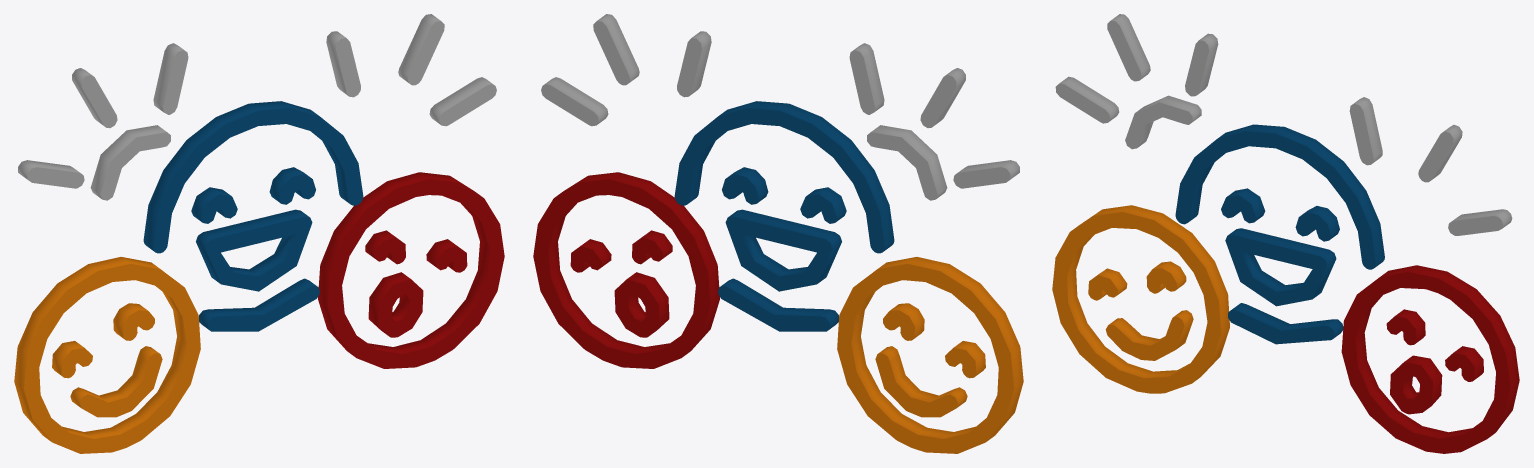
Rendered from crowd.glb.
3 renders of one model, left to right at view 1: azimuth 30°, elevation 25°; view 2: azimuth 150°, elevation 25°; view 3: azimuth 330°, elevation 25°, orthographic. The views are drawn at different scales.
Visible parts, largest first — view 1: crowd; view 2: crowd; view 3: crowd.
Part boxes in pixels (x1=…): crowd: x1=14, y1=14, x2=504, y2=453; crowd: x1=533, y1=14, x2=1023, y2=453; crowd: x1=1052, y1=14, x2=1519, y2=453.
Size of what is drawn, in the model's own units: 1.66 by 1.27 by 0.0574.
1 material, 1 textured.
